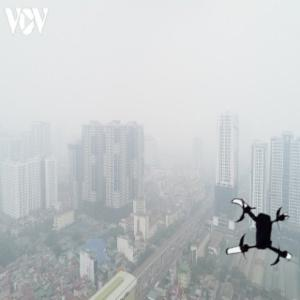drone: (214, 192, 299, 277)
